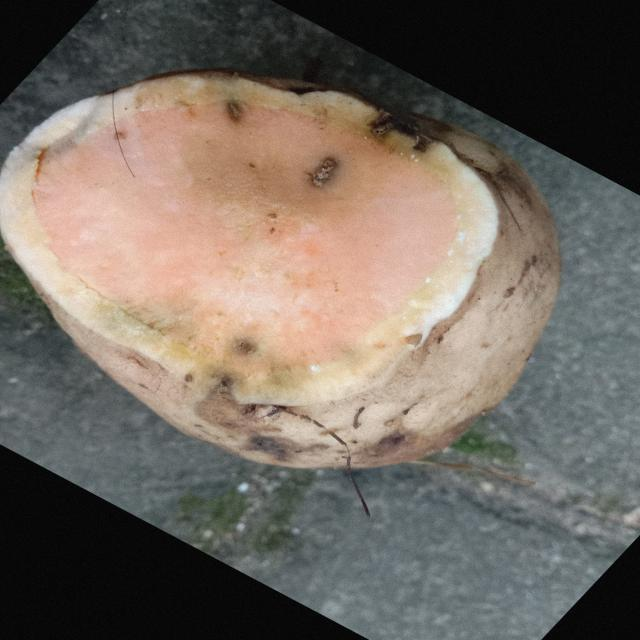Sick Sweet Potato_Tuber Rot: (3, 71, 498, 405)
